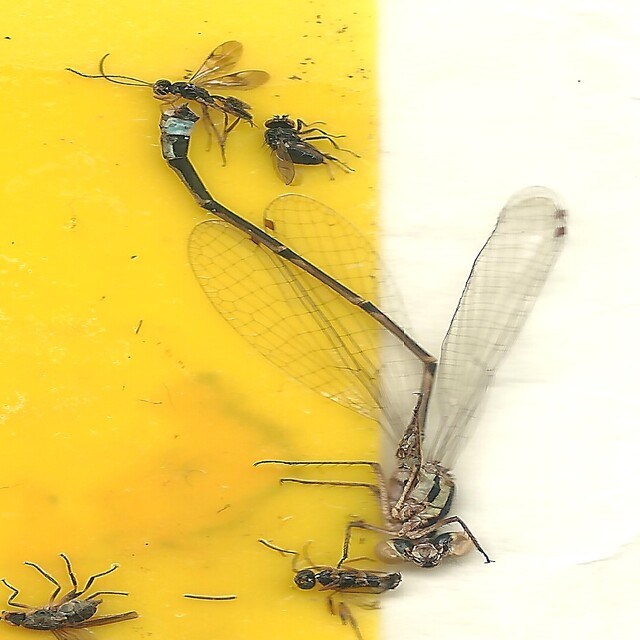Brachycera: (263, 114, 363, 188)
Hymenoptera: (68, 42, 269, 166), (288, 566, 404, 598)
Odonata: (154, 104, 572, 571)
